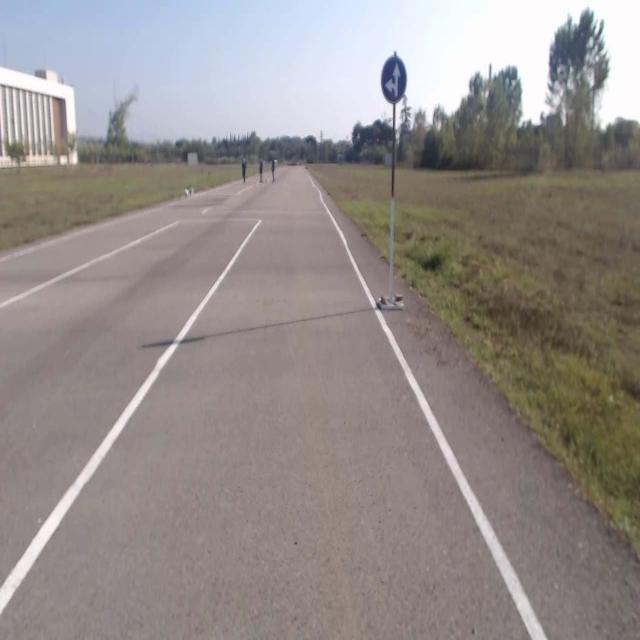ilerisol: (380, 55, 406, 102)
